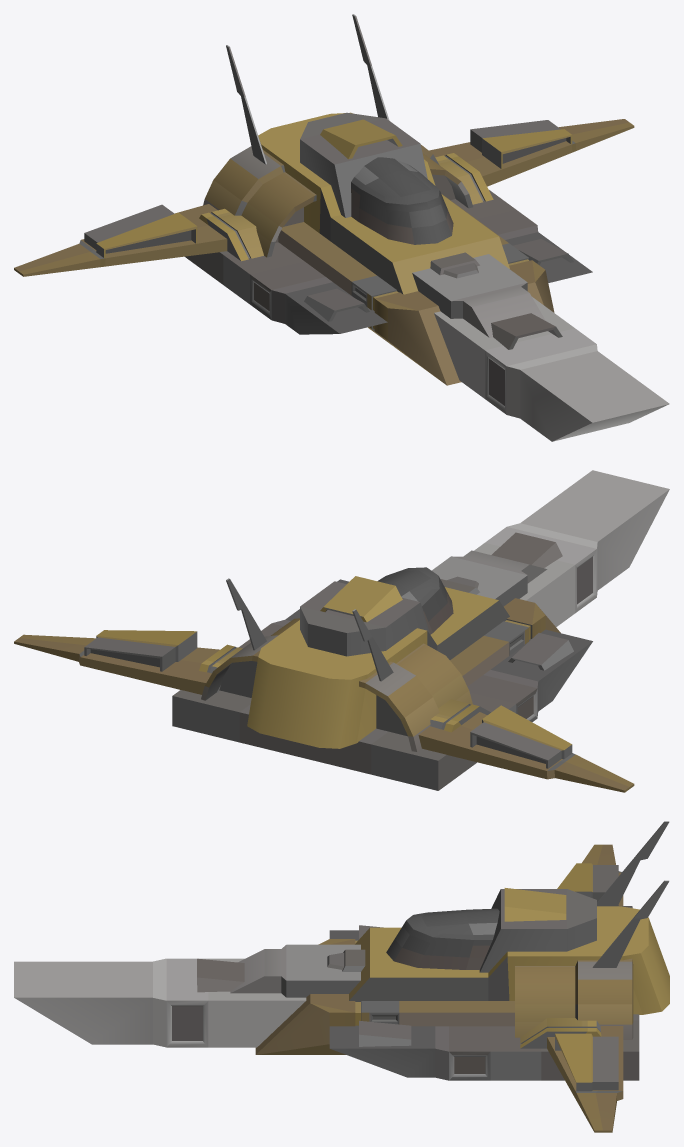
Rendered from challenger.glb.
The picture shows the model from 3 angles, top to bottom: view 1: azimuth 30°, elevation 25°; view 2: azimuth 150°, elevation 25°; view 3: azimuth 270°, elevation 25°; orthographic projection. The views are drawn at different scales.
Visible parts, largest first — view 1: Challenger; view 2: Challenger; view 3: Challenger.
Part boxes in pixels (x1,y1,x2,y2): Challenger: (14,14,669,441); Challenger: (14,470,669,792); Challenger: (14,821,669,1132).
Bounding box in the file's own units: 10.5 × 3.02 × 10.18.
